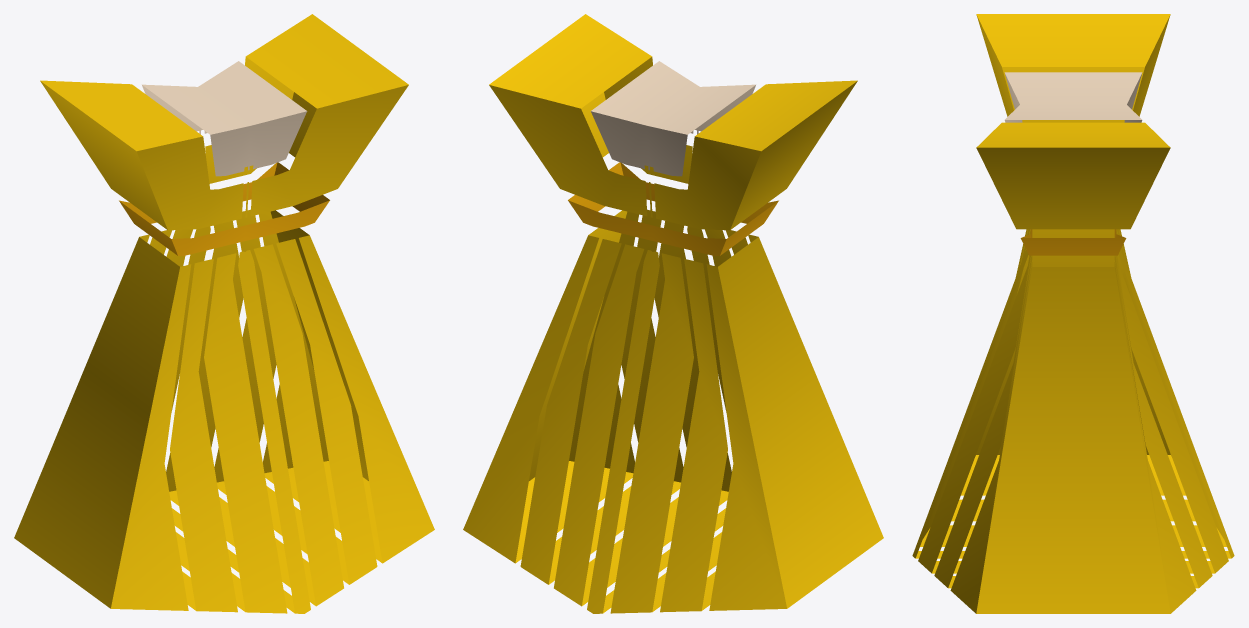
File: C_GH_Body_F2.FBX
3 views of the same model, side by side, from view 1: azimuth 30°, elevation 25°; view 2: azimuth 150°, elevation 25°; view 3: azimuth 270°, elevation 25° (orthographic).
Visible parts, largest first — view 1: Body; view 2: Body; view 3: Body.
Part boxes in pixels (x1=…): Body: x1=14, y1=14, x2=434, y2=613; Body: x1=463, y1=14, x2=883, y2=613; Body: x1=912, y1=14, x2=1234, y2=613.
Size of the model in its own units: 16.08 by 22.4 by 13.77.
Materials: 1 (1 with a texture image).
